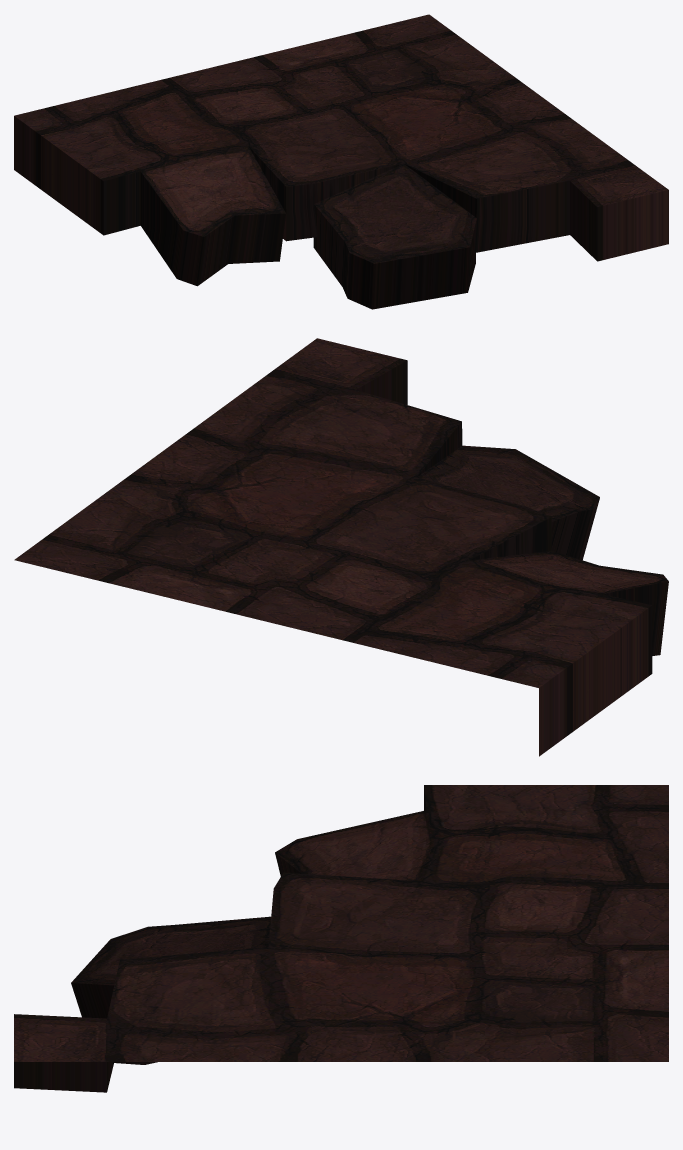
File: lava_floor_brokendiagonal_02.fbx
The picture shows the model from 3 angles, top to bottom: view 1: azimuth 30°, elevation 25°; view 2: azimuth 150°, elevation 25°; view 3: azimuth 270°, elevation 25°; orthographic projection. The views are drawn at different scales.
Visible parts, largest first — view 1: lava_floor_brokendiagonal_02-0; view 2: lava_floor_brokendiagonal_02-0; view 3: lava_floor_brokendiagonal_02-0.
Boxes of the visible parts, left/top/right/bottom form: lava_floor_brokendiagonal_02-0: left=14, top=14, right=668, bottom=309; lava_floor_brokendiagonal_02-0: left=14, top=338, right=668, bottom=756; lava_floor_brokendiagonal_02-0: left=14, top=785, right=668, bottom=1092.
Size of the model in its own units: 4 by 0.8364 by 4.
